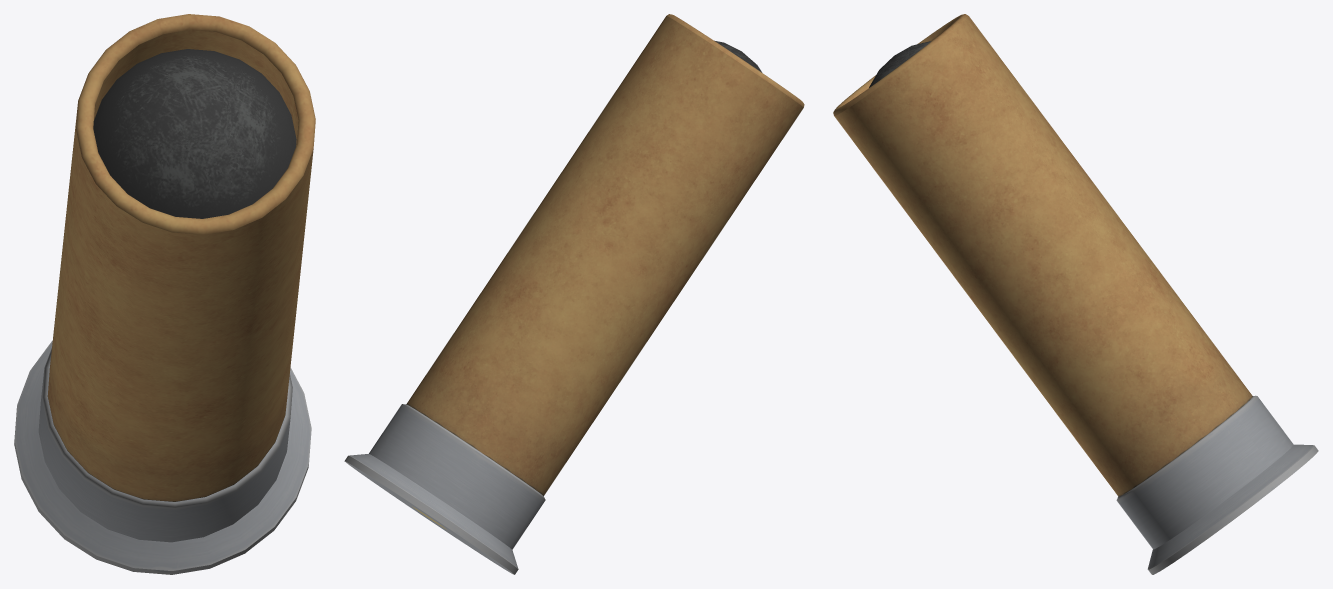
3 renders of one model, left to right at view 1: azimuth 30°, elevation 25°; view 2: azimuth 150°, elevation 25°; view 3: azimuth 270°, elevation 25°, orthographic. The views are drawn at different scales.
Visible parts, largest first — view 1: Object_2; view 2: Object_2; view 3: Object_2.
Boxes of the visible parts, box(x1,y1,x2,y2) form: Object_2: box(14, 14, 315, 574); Object_2: box(344, 14, 804, 574); Object_2: box(833, 14, 1318, 574).
Bounding box in the file's own units: 0.0454 × 0.0713 × 0.0638.
Materials: 1 (1 with a texture image).
